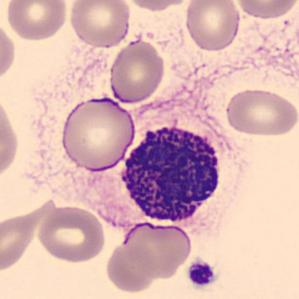Basophil: (113, 116, 243, 234)
Platelets: (186, 258, 218, 288)
RBC: (59, 94, 137, 173), (1, 197, 61, 275), (120, 219, 194, 279), (35, 204, 107, 264), (107, 38, 167, 104), (222, 86, 298, 138), (67, 0, 132, 49), (103, 239, 160, 294), (183, 0, 242, 53), (4, 0, 69, 42), (0, 93, 21, 183), (234, 0, 298, 21), (0, 18, 17, 84), (121, 0, 192, 12)
